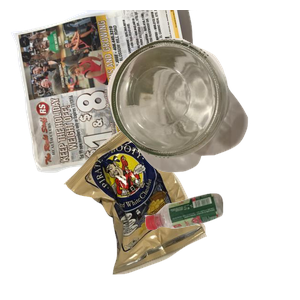glass: (105, 36, 300, 201)
paper: (10, 10, 210, 175)
plastic: (142, 191, 300, 300)
trash: (61, 127, 260, 300)
